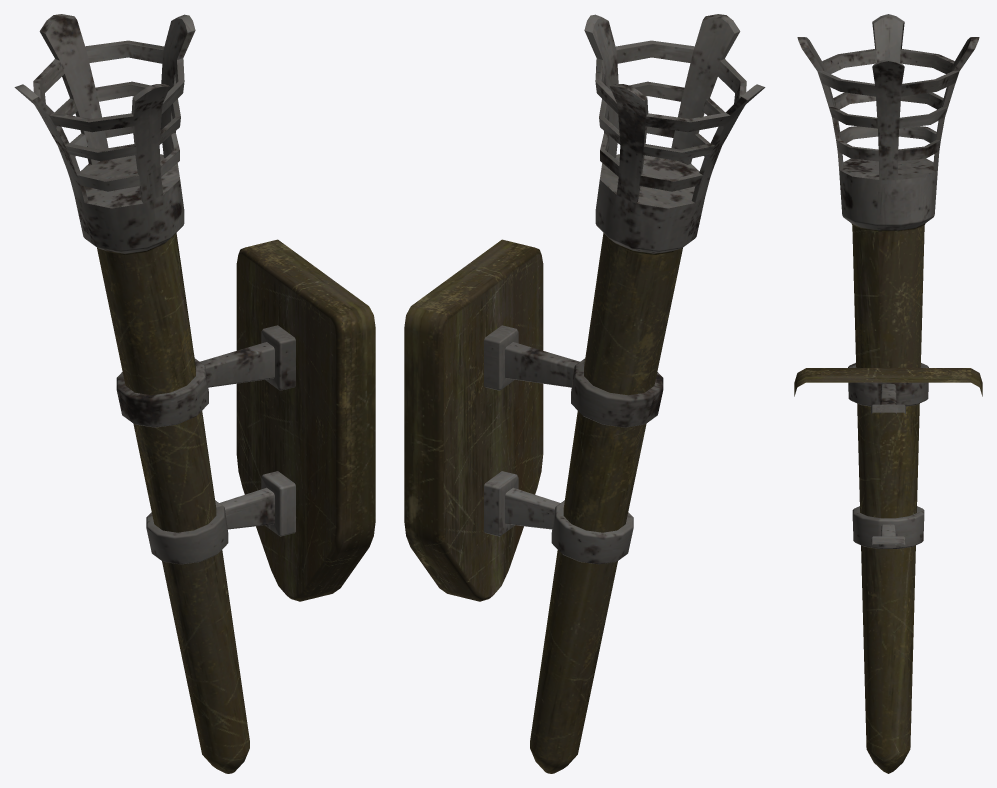
Rendered from torch_wall.glb.
The picture shows the model from 3 angles, left to right: view 1: azimuth 30°, elevation 25°; view 2: azimuth 150°, elevation 25°; view 3: azimuth 270°, elevation 25°; orthographic projection. The views are drawn at different scales.
Visible parts, largest first — view 1: Env_PropTorch_1; view 2: Env_PropTorch_1; view 3: Env_PropTorch_1.
Part boxes in pixels (left/top/right/bottom): Env_PropTorch_1: left=14, top=14, right=375, bottom=773; Env_PropTorch_1: left=404, top=14, right=765, bottom=773; Env_PropTorch_1: left=794, top=14, right=982, bottom=773.
Size of the model in its own units: 0.2418 by 0.5809 by 0.1429.
Materials: 1 (1 with a texture image).
